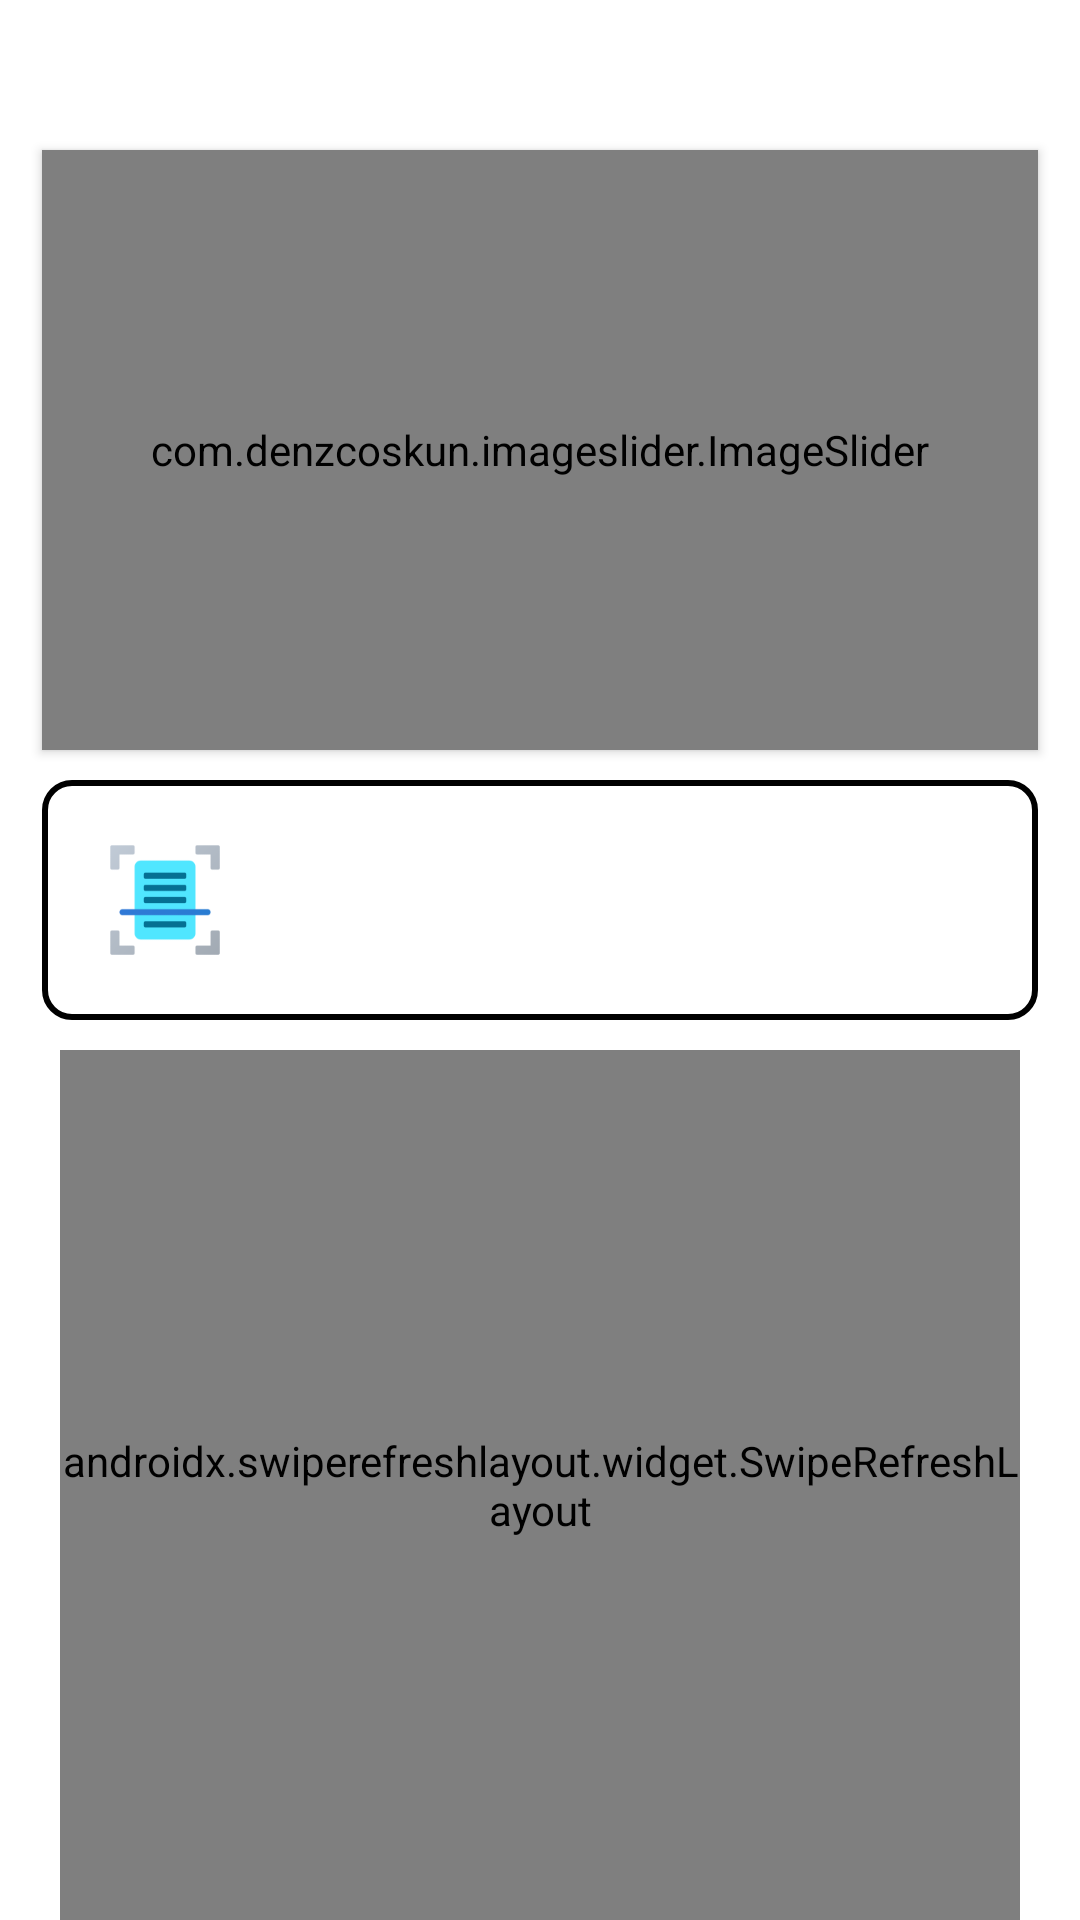

Point at icon controls on the screen. Image size 1080x1920, points as (x,y).
OCR: (165,900)
